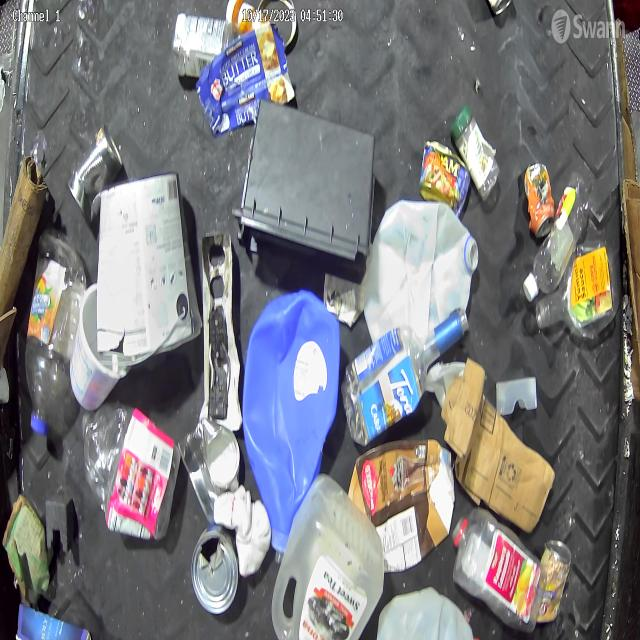can: (178, 416, 242, 526), (69, 128, 124, 222), (191, 525, 239, 615), (417, 138, 470, 217), (538, 538, 574, 624), (526, 160, 556, 239)
milk_jug: (270, 469, 388, 640), (363, 200, 479, 346), (378, 584, 478, 640)
non_white_jug: (245, 290, 340, 562)
plastic_bottle: (80, 399, 176, 542), (26, 228, 85, 435), (453, 510, 546, 634), (522, 185, 589, 300), (536, 244, 615, 341)
